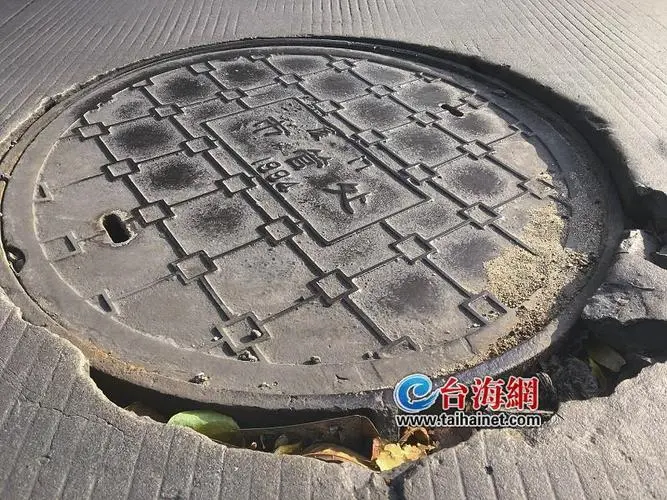circle: (17, 32, 653, 478)
